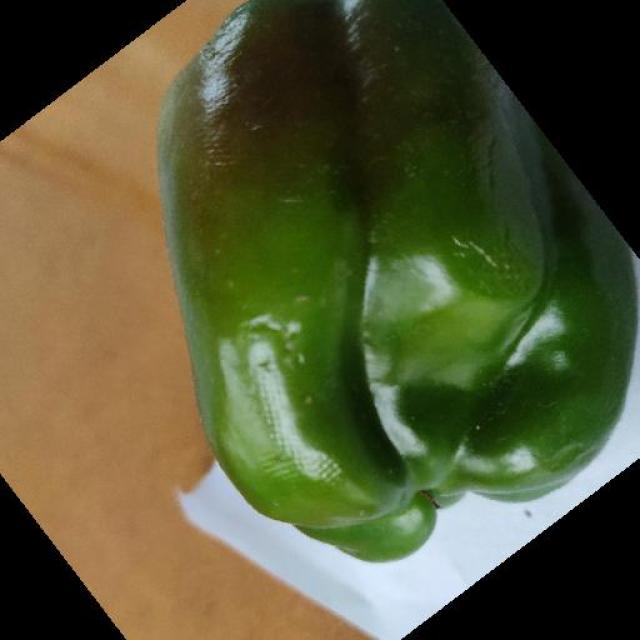Stale_Capsicum: (140, 41, 542, 476)
